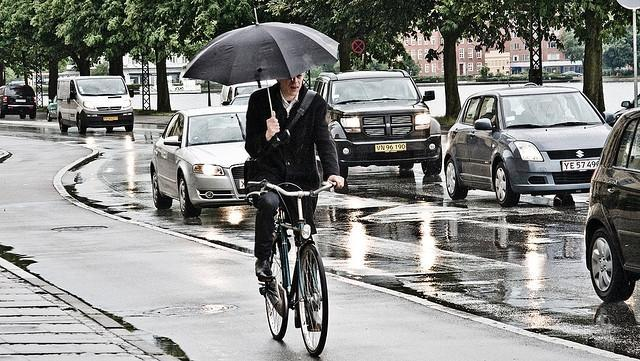bicycle: (244, 180, 336, 354)
car: (442, 85, 614, 211), (152, 106, 253, 221), (585, 108, 639, 304), (221, 79, 278, 107), (0, 81, 38, 121), (226, 86, 268, 108)
truck: (313, 66, 441, 180), (58, 76, 136, 138)
